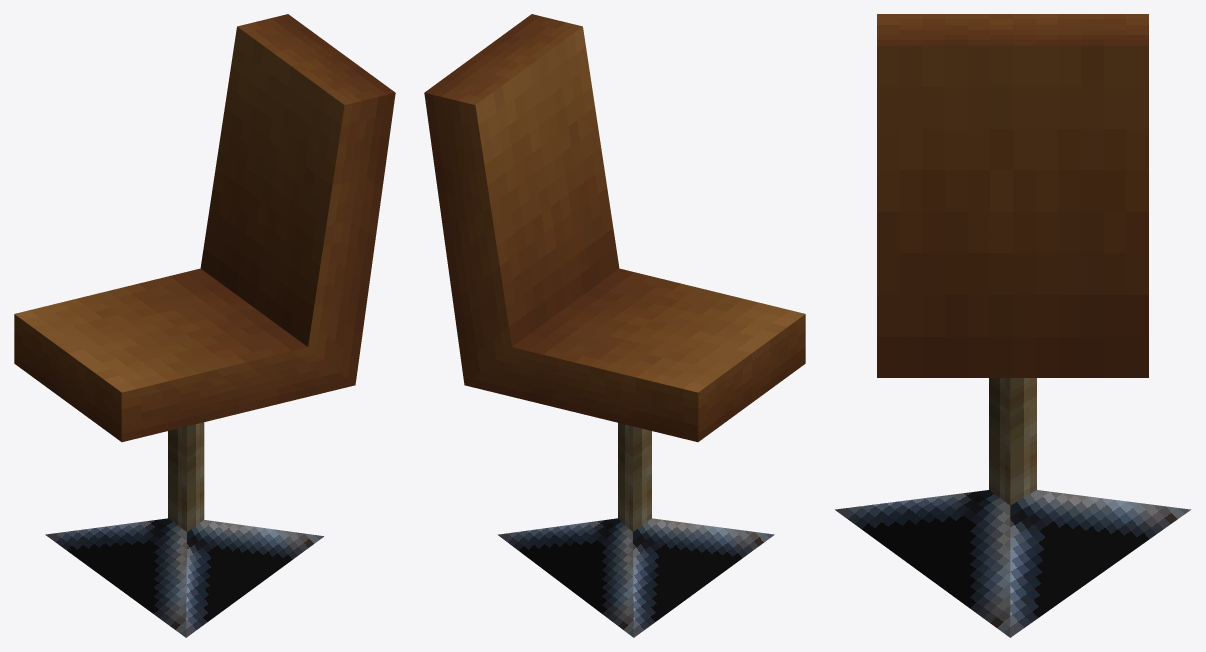
The picture shows the model from 3 angles, left to right: view 1: azimuth 30°, elevation 25°; view 2: azimuth 150°, elevation 25°; view 3: azimuth 270°, elevation 25°; orthographic projection. The views are drawn at different scales.
Parts seen in each view (by area): view 1: prim126-officechair; view 2: prim126-officechair; view 3: prim126-officechair.
Part boxes in pixels (<box>): prim126-officechair: <box>14,14,395,637</box>; prim126-officechair: <box>424,14,805,637</box>; prim126-officechair: <box>835,14,1190,637</box>.
Size of the model in its own units: 75 by 125 by 67.
Materials: 2 (2 with a texture image).
